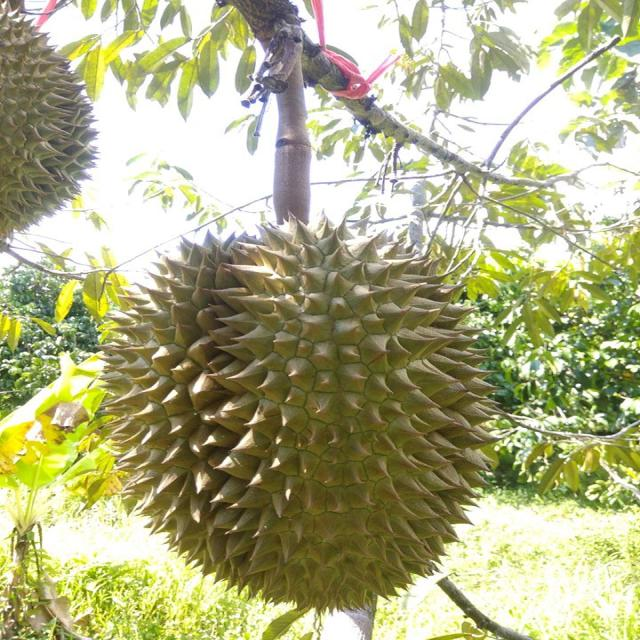mature: (103, 212, 502, 612)
